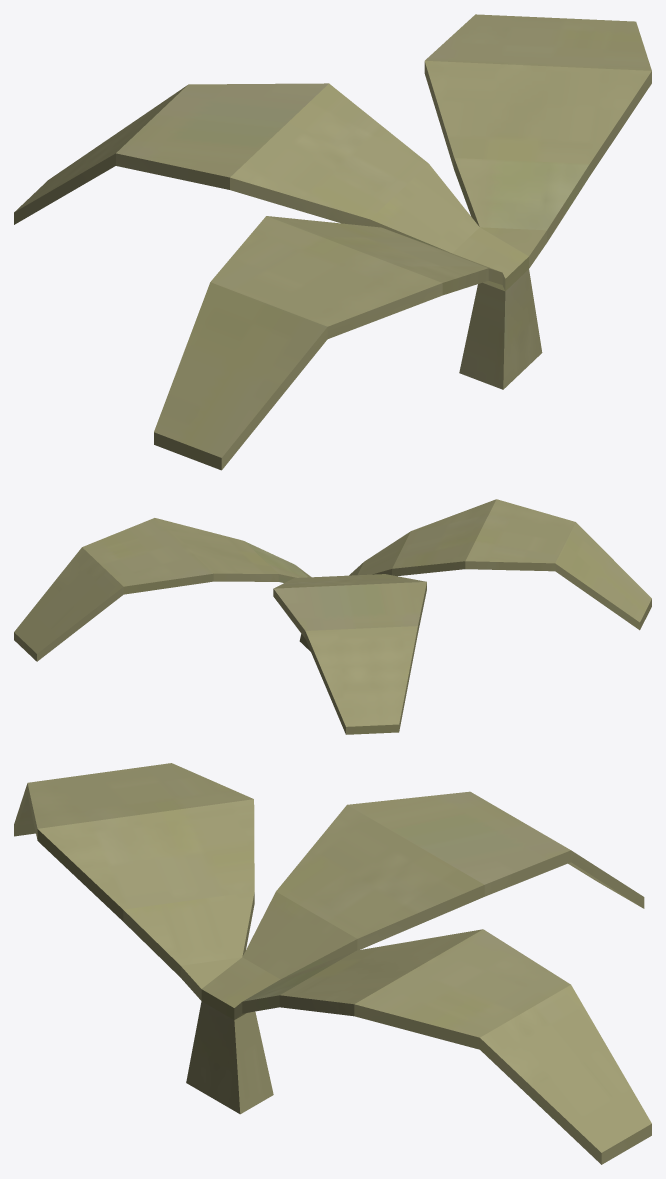
File: plant.fbx
3 renders of one model, top to bottom at view 1: azimuth 30°, elevation 25°; view 2: azimuth 150°, elevation 25°; view 3: azimuth 270°, elevation 25°, orthographic. The views are drawn at different scales.
Parts seen in each view (by area): view 1: Cylinder; view 2: Cylinder; view 3: Cylinder.
Boxes of the visible parts, x1,y1,x2,y2 form: Cylinder: (14, 14, 651, 470); Cylinder: (14, 499, 651, 734); Cylinder: (14, 763, 651, 1164).
Size of the model in its own units: 2734 by 710 by 2169.
